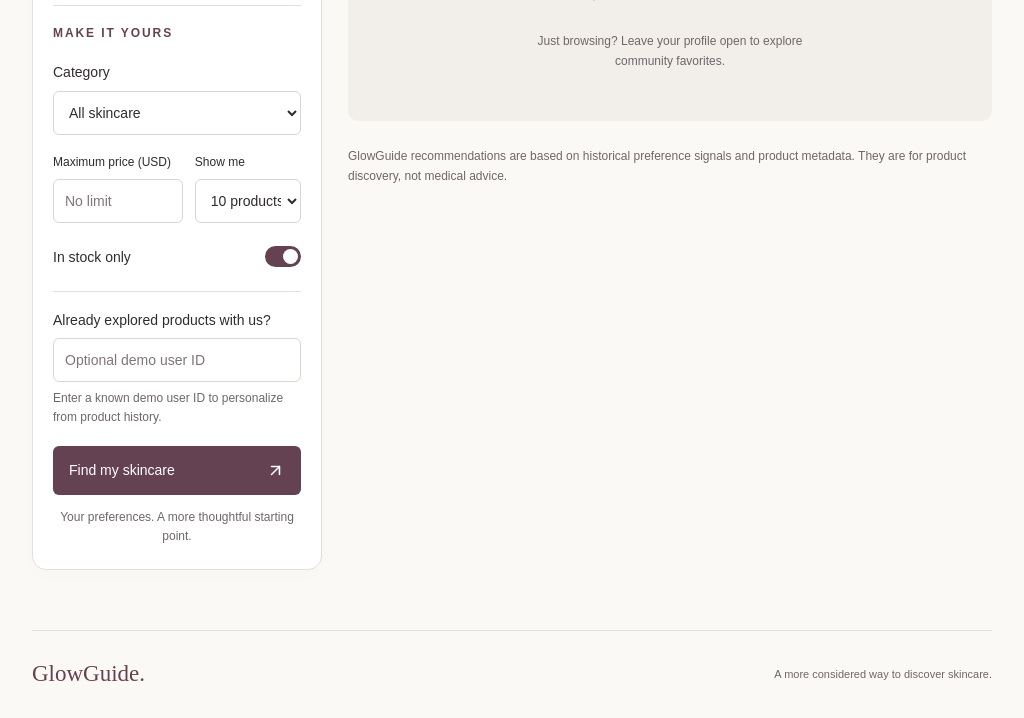
Test case: recommendation experience › shows actual skin_profile explanation without fetching and preserves results
This screenshot has width=1024, height=718.
(page scrolled)
Click the button "Find my skincare". click: click(177, 470)
box: [53, 446, 301, 495]
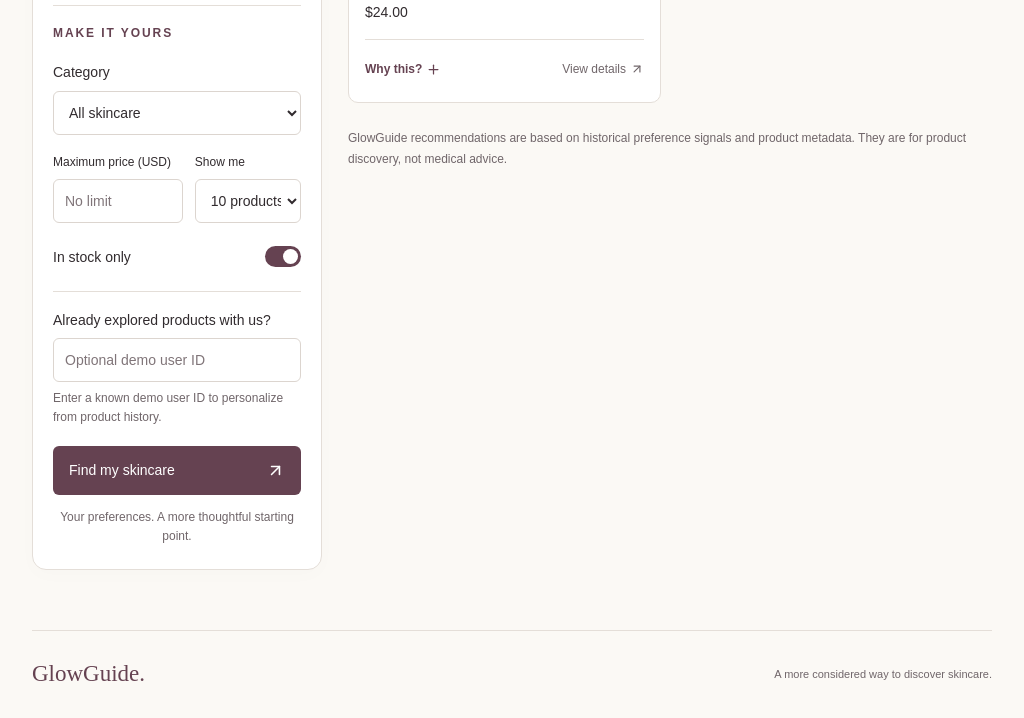
Click the button "Why this?". click: click(403, 69)
box: [365, 49, 441, 89]
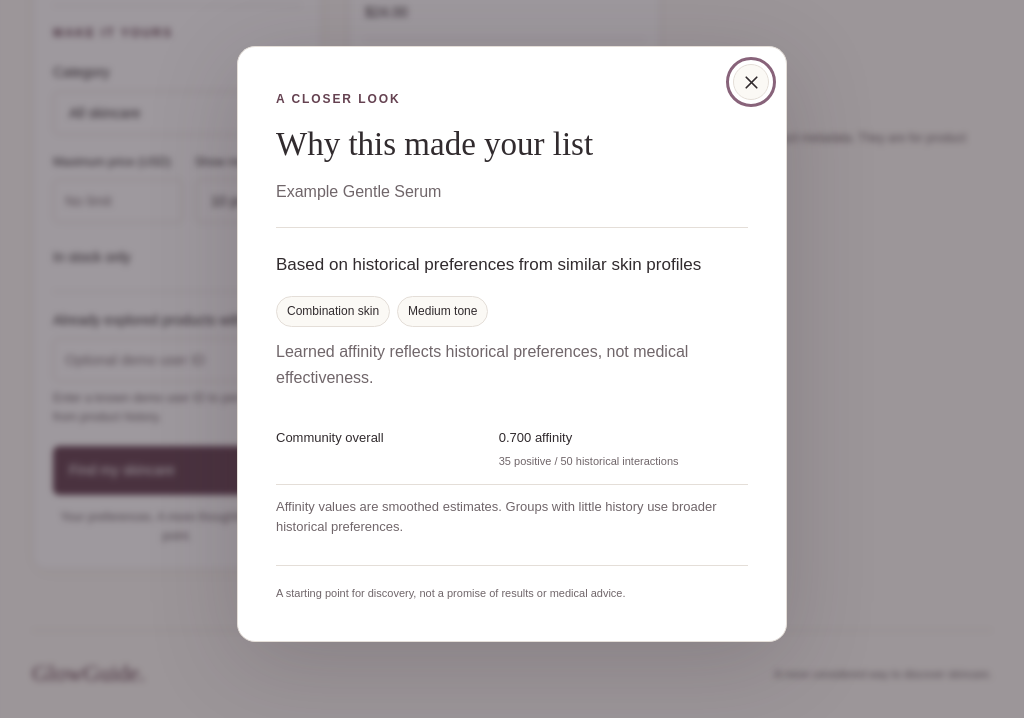
Expected: the text "Community overall" is shown, [276, 430, 384, 445]
Press Escape
(page scrolled)
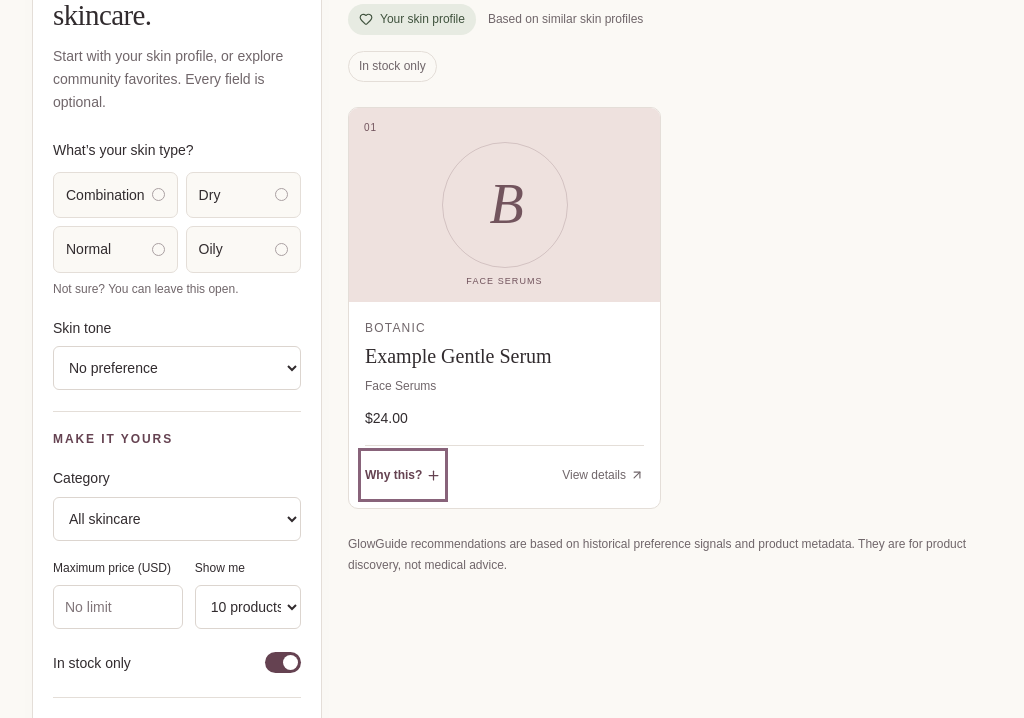
Expected: the heading "Example Gentle Serum" is shown, [365, 345, 552, 367]
Expected: the dialog is gone
